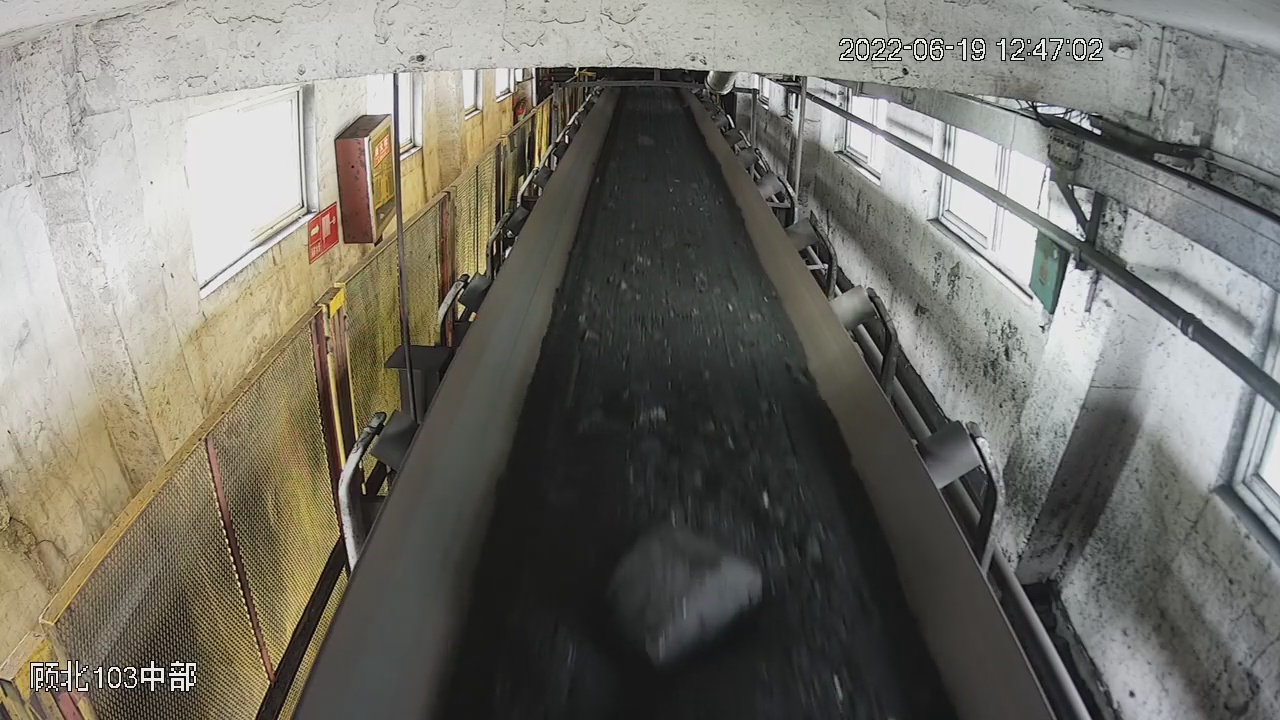gangue: (607, 521, 764, 665)
